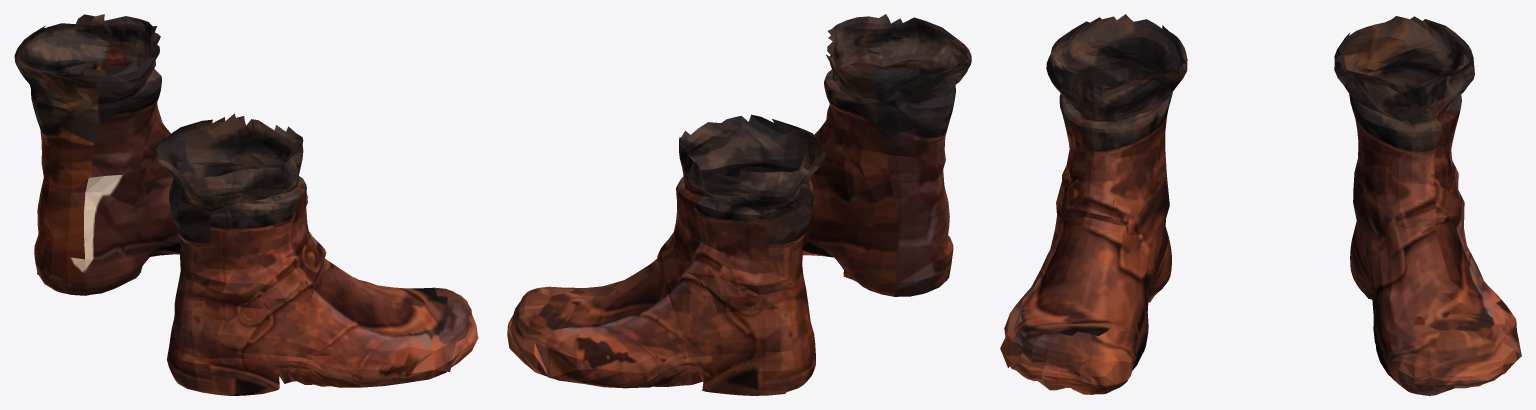
Rendered from bold_cowboy_made_boots.glb.
3 renders of one model, left to right at view 1: azimuth 30°, elevation 25°; view 2: azimuth 150°, elevation 25°; view 3: azimuth 270°, elevation 25°, orthographic. The views are drawn at different scales.
Visible parts, largest first — view 1: boots; view 2: boots; view 3: boots.
Part boxes in pixels (x1,y1,x2,y2): boots: (14, 14, 478, 395); boots: (507, 14, 971, 395); boots: (1000, 14, 1521, 395).
Bounding box in the file's own units: 0.2142 × 0.1659 × 0.3192.
1 material, 1 textured.
